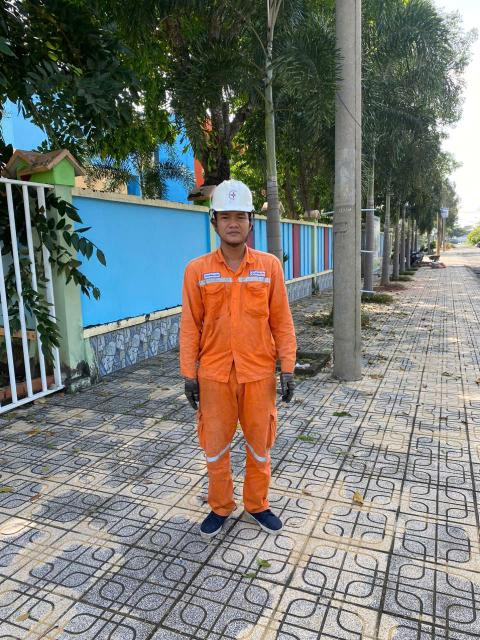gloves: (173, 374, 215, 411), (277, 372, 303, 402)
helmet: (204, 173, 262, 219)
shoes: (241, 491, 293, 533), (198, 502, 231, 537)
